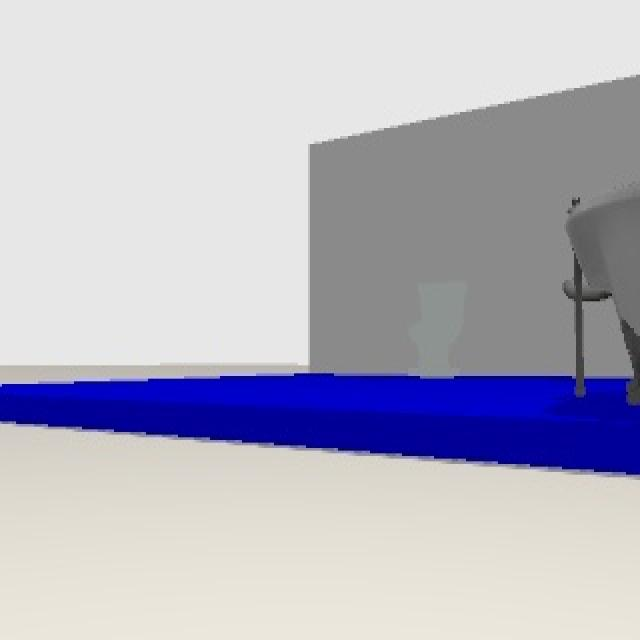bathtub: (562, 184, 638, 405)
